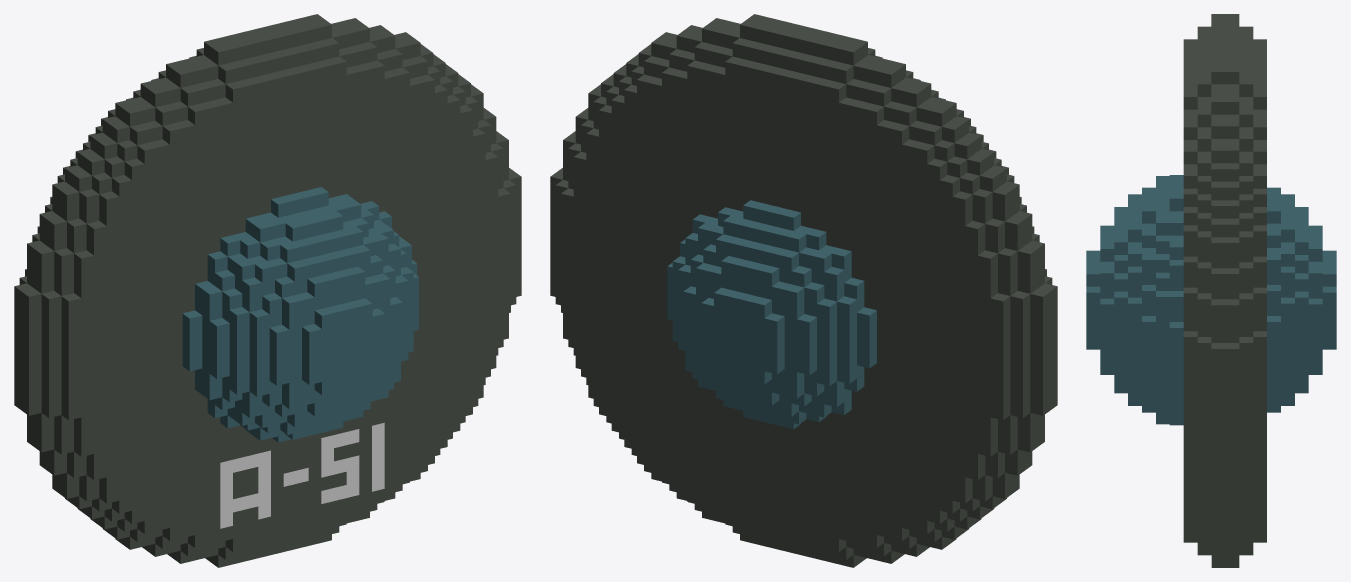
File: UFO.fbx
3 renders of one model, left to right at view 1: azimuth 30°, elevation 25°; view 2: azimuth 150°, elevation 25°; view 3: azimuth 270°, elevation 25°, orthographic. The views are drawn at different scales.
Parts seen in each view (by area): view 1: ObjObject.001; view 2: ObjObject.001; view 3: ObjObject.001.
Part boxes in pixels (x1,y1,x2,y2): ObjObject.001: (14,14,521,567); ObjObject.001: (550,14,1057,567); ObjObject.001: (1086,14,1336,567).
Size of the model in its own units: 390 by 390 by 180.
Materials: 1 (1 with a texture image).
